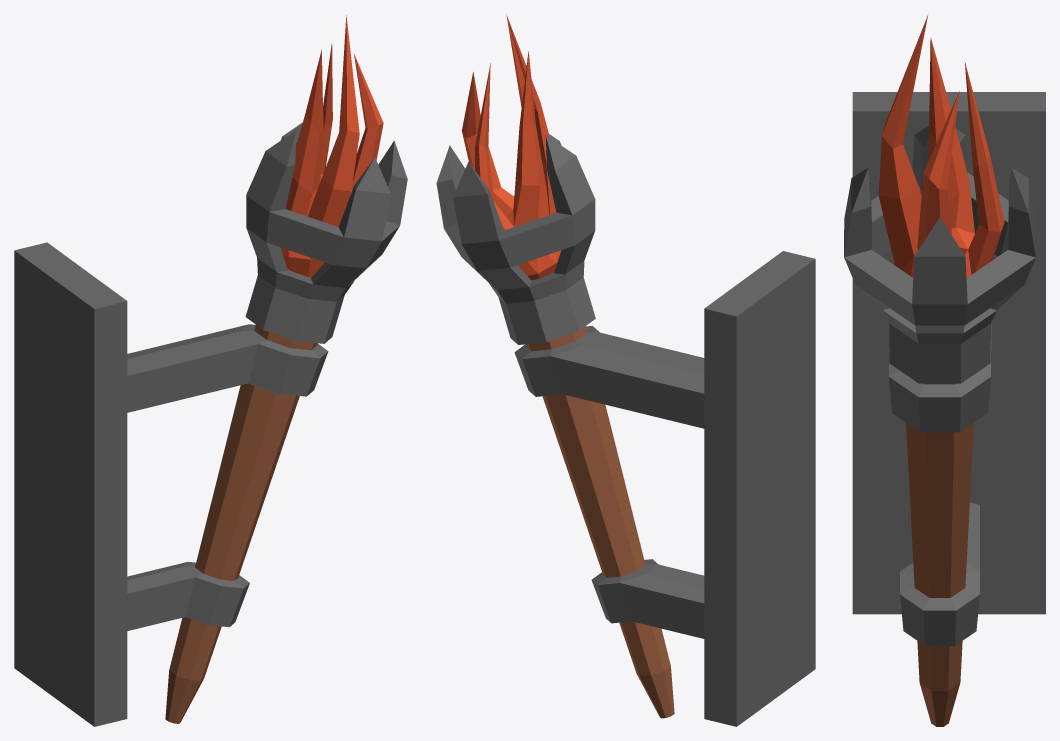
The model's file is Crypt_Torch_wall.glb.
The picture shows the model from 3 angles, left to right: view 1: azimuth 30°, elevation 25°; view 2: azimuth 150°, elevation 25°; view 3: azimuth 270°, elevation 25°; orthographic projection. The views are drawn at different scales.
Visible parts, largest first — view 1: Torch; view 2: Torch; view 3: Torch.
Part boxes in pixels (left/top/right/bottom): Torch: left=14, top=15, right=407, bottom=726; Torch: left=436, top=14, right=815, bottom=726; Torch: left=844, top=14, right=1045, bottom=726.
Size of the model in its own units: 1.1 by 2.08 by 0.4704.
